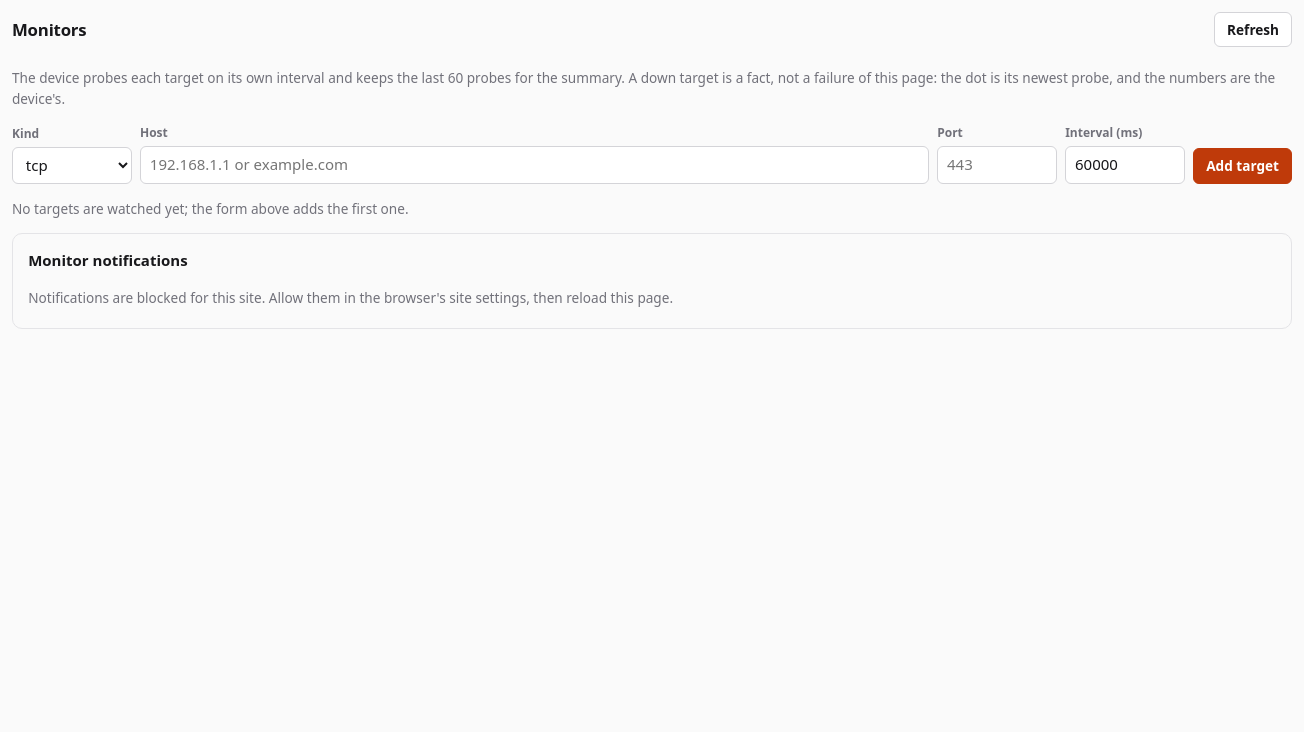
it: MonitorsPage › adds a tcp target with exactly the tcp arguments, then re-lists
Check: the text "No targets are watched yet; the form above adds the first one." is shown, box [12,199,408,218]
In the field labelled "Host": (535, 164) [140,146,929,184], type "10.0.0.9"
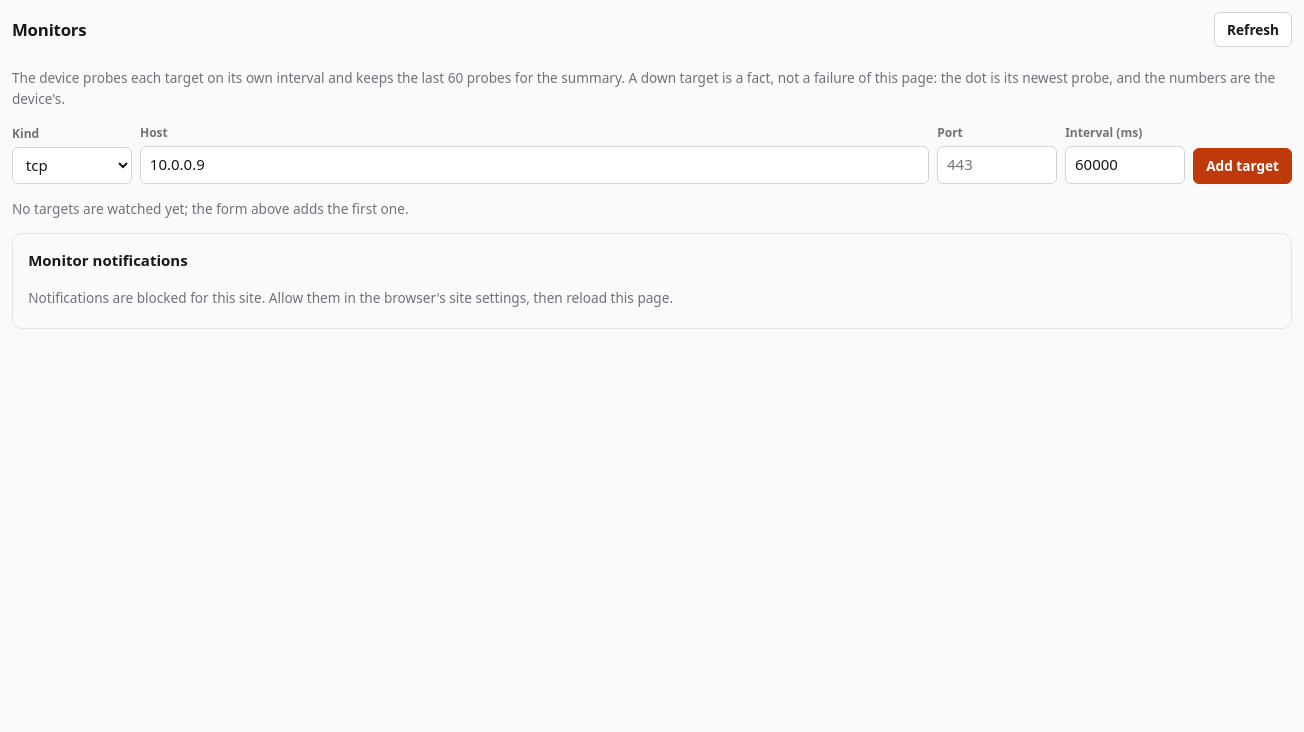
In the number field labelled "Port": (997, 164) [937,146,1057,184], type "22"
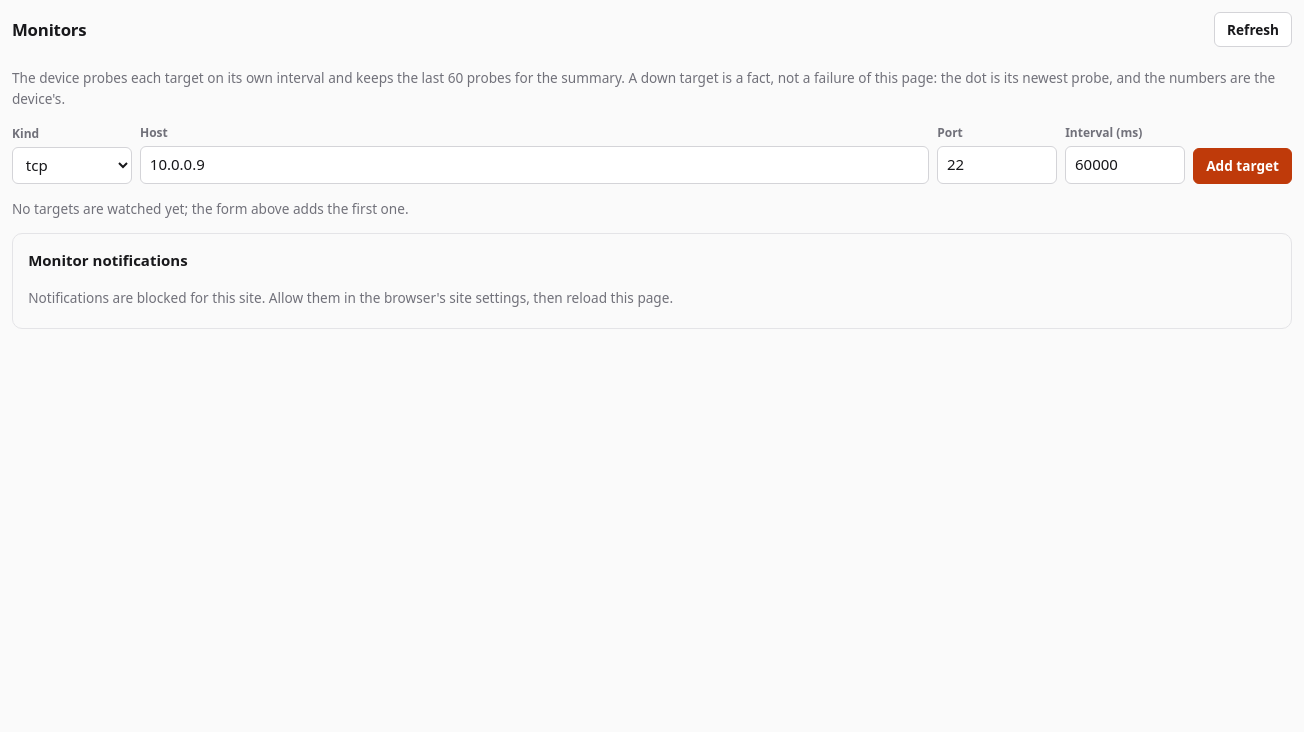
Click the button "Add target": (1243, 166) [1193,148,1292,184]
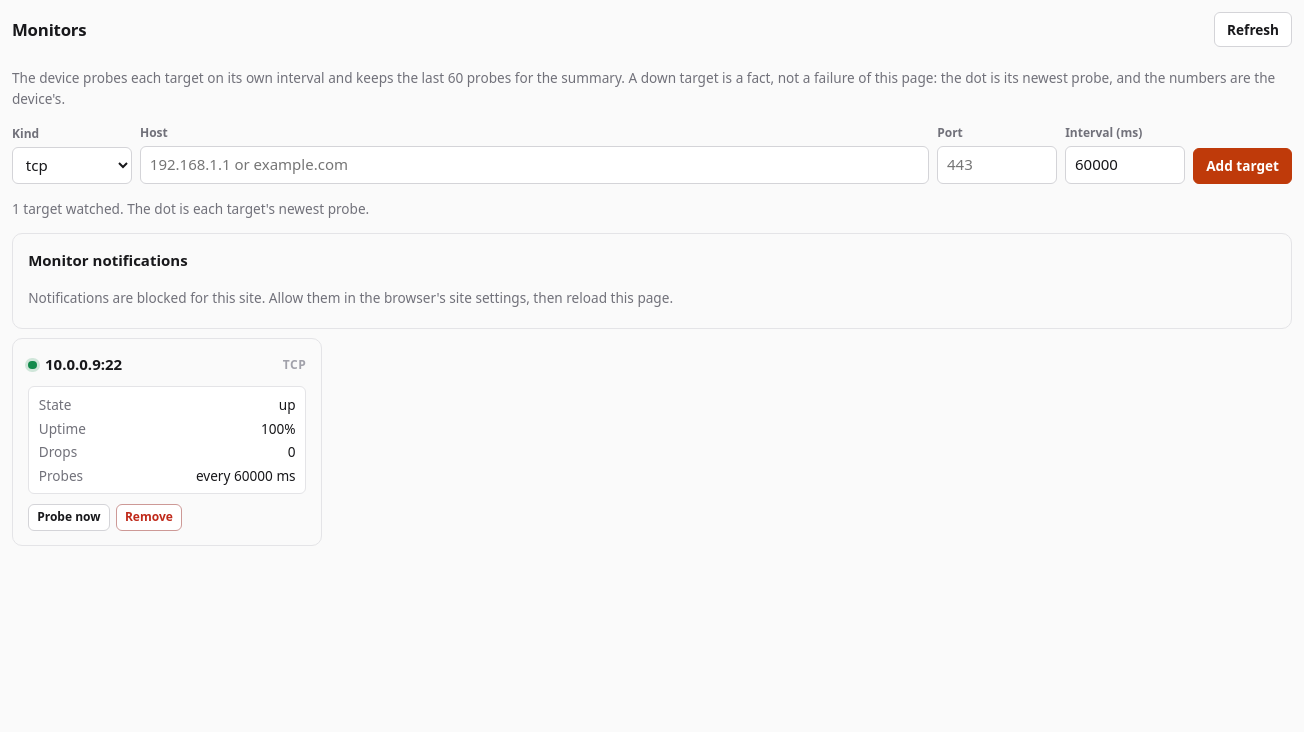
Check: the text "10.0.0.9:22" is shown, box [45,353,122,377]
Check: the field labelled "Host" is empty, box [140,146,929,184]
Check: the number field labelled "Port" is not empty, box [937,146,1057,184]
